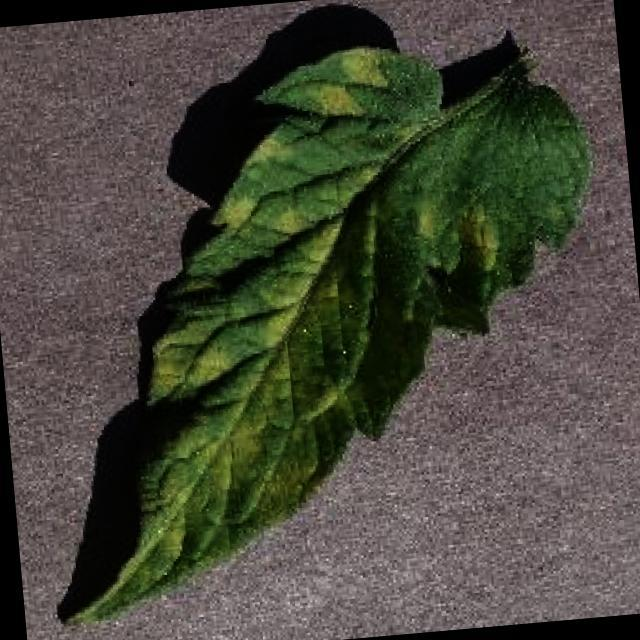Tomato mold leaf: (14, 29, 620, 627)
